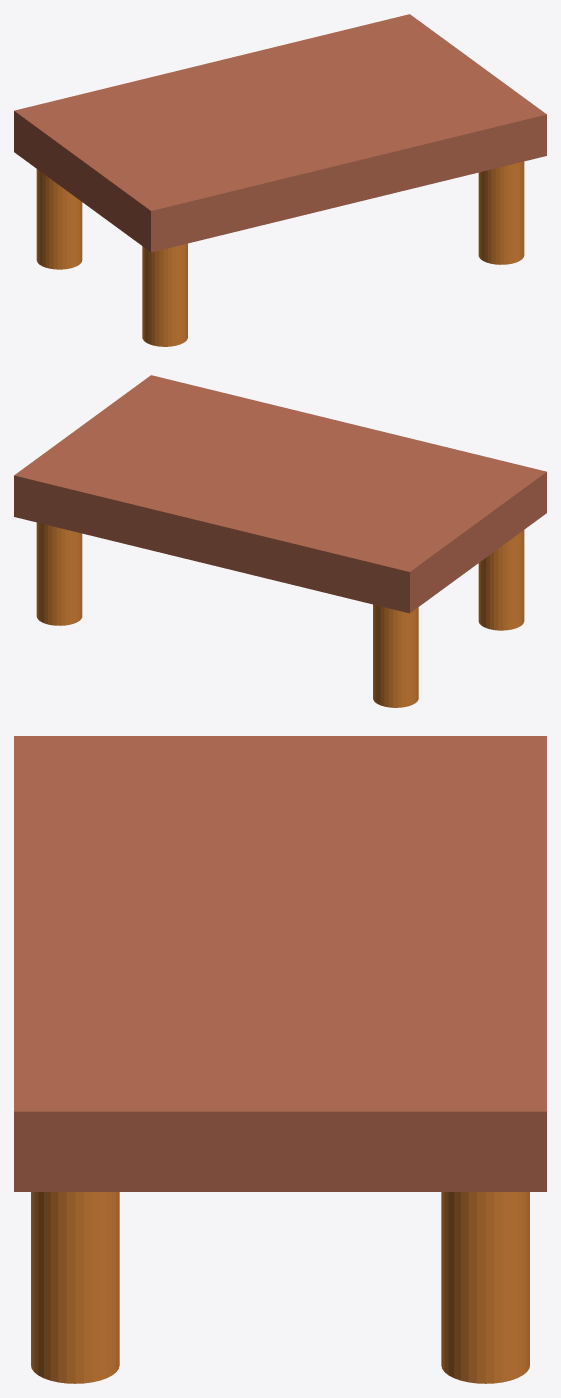
Rendered from cubicle_table.glb.
3 views of the same model, one above another, from view 1: azimuth 30°, elevation 25°; view 2: azimuth 150°, elevation 25°; view 3: azimuth 270°, elevation 25° (orthographic). The views are drawn at different scales.
Parts seen in each view (by area): view 1: Cube; view 2: Cube; view 3: Cube.
Part boxes in pixels (bbox=[...]): Cube: bbox=[14, 14, 546, 346]; Cube: bbox=[14, 375, 546, 707]; Cube: bbox=[14, 736, 546, 1383].
Bounding box in the file's own units: 2 × 0.7 × 1.2.
